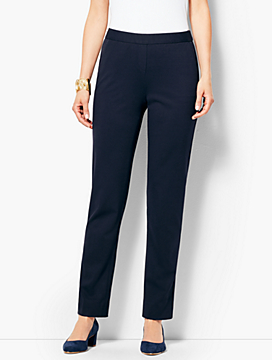feet: (52, 281, 170, 356)
